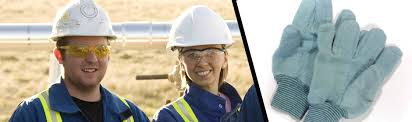Hard Hat: (163, 6, 233, 49), (48, 1, 116, 40)
